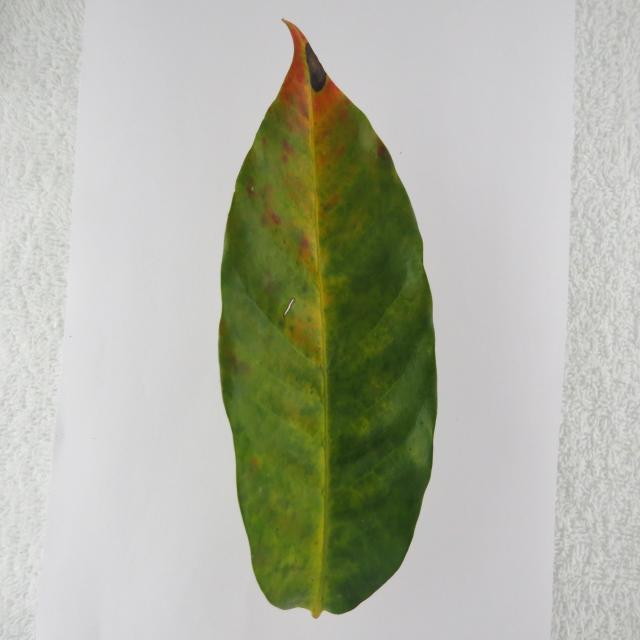DeficienciaNutricional-Fosforo: (219, 22, 438, 617)
